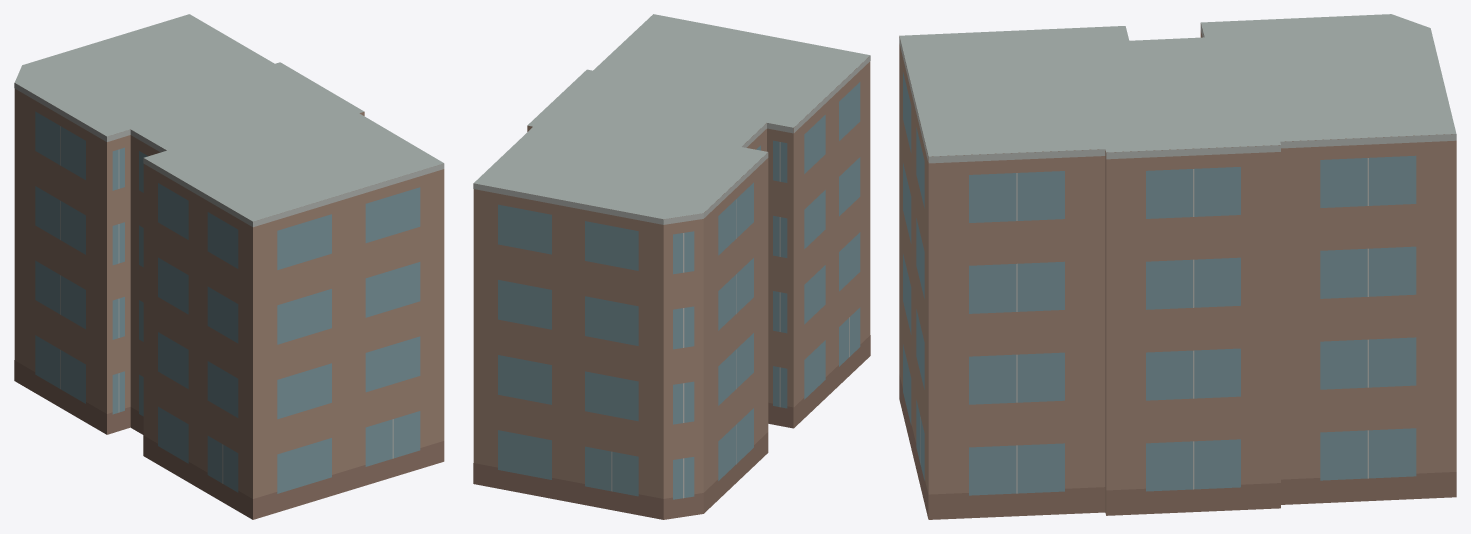
Rendered from survey-upis-32621094.glb.
The picture shows the model from 3 angles, left to right: view 1: azimuth 30°, elevation 25°; view 2: azimuth 150°, elevation 25°; view 3: azimuth 270°, elevation 25°; orthographic projection. The views are drawn at different scales.
Parts seen in each view (by area): view 1: survey-upis-32621094.tmp; view 2: survey-upis-32621094.tmp; view 3: survey-upis-32621094.tmp.
Part boxes in pixels (x1=…): survey-upis-32621094.tmp: x1=14, y1=14, x2=444, y2=519; survey-upis-32621094.tmp: x1=473, y1=14, x2=870, y2=519; survey-upis-32621094.tmp: x1=899, y1=14, x2=1456, y2=519.
Bounding box in the file's own units: 10.87 × 12.9 × 17.94.
